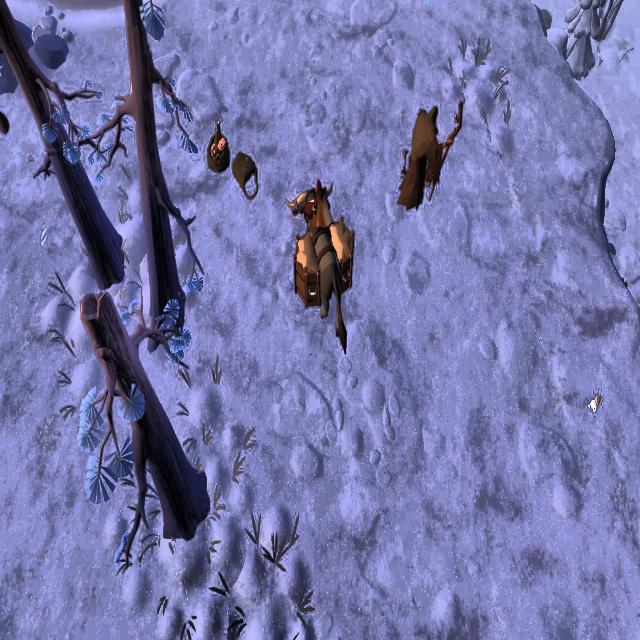enemy_factionKeeper: (396, 96, 463, 210)
